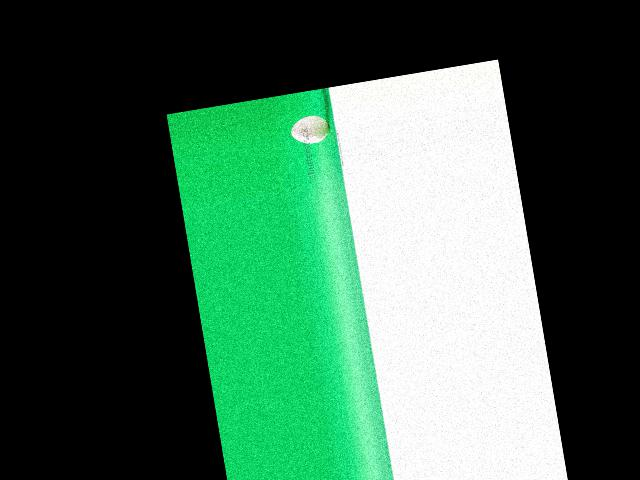egg: (289, 112, 331, 146)
